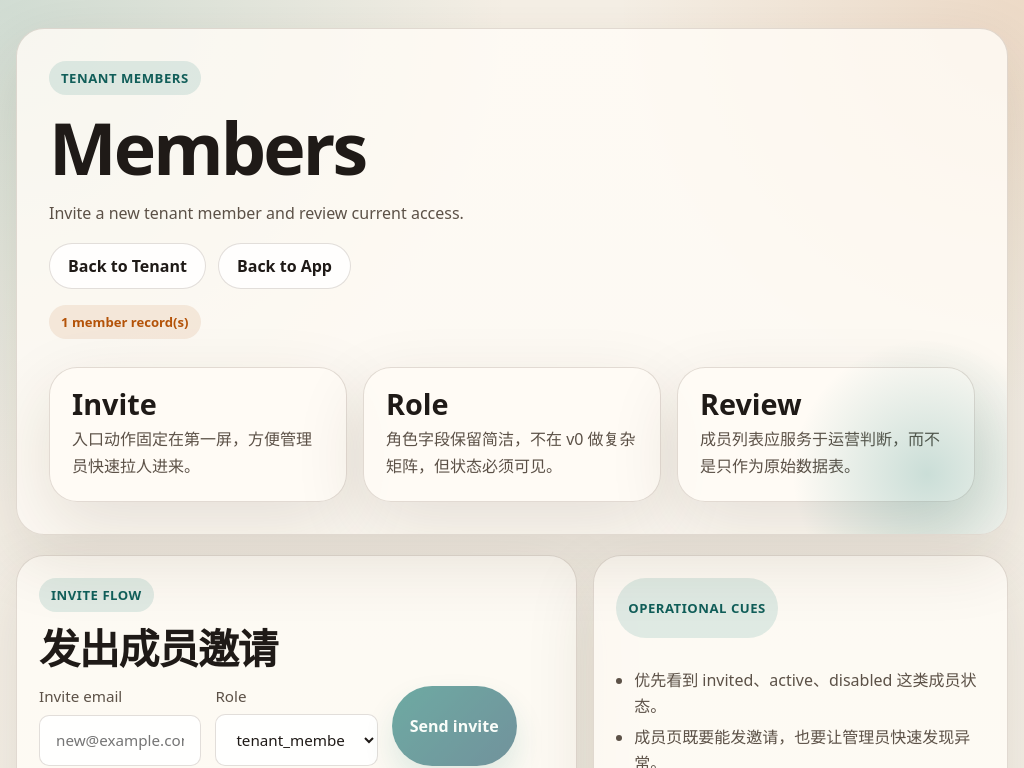
Test: submits an invitation and appends the invited member to the list
In the field labelled "Invite email": coordinates (120, 740) [39,715,201,766], type "  new@example.com  "
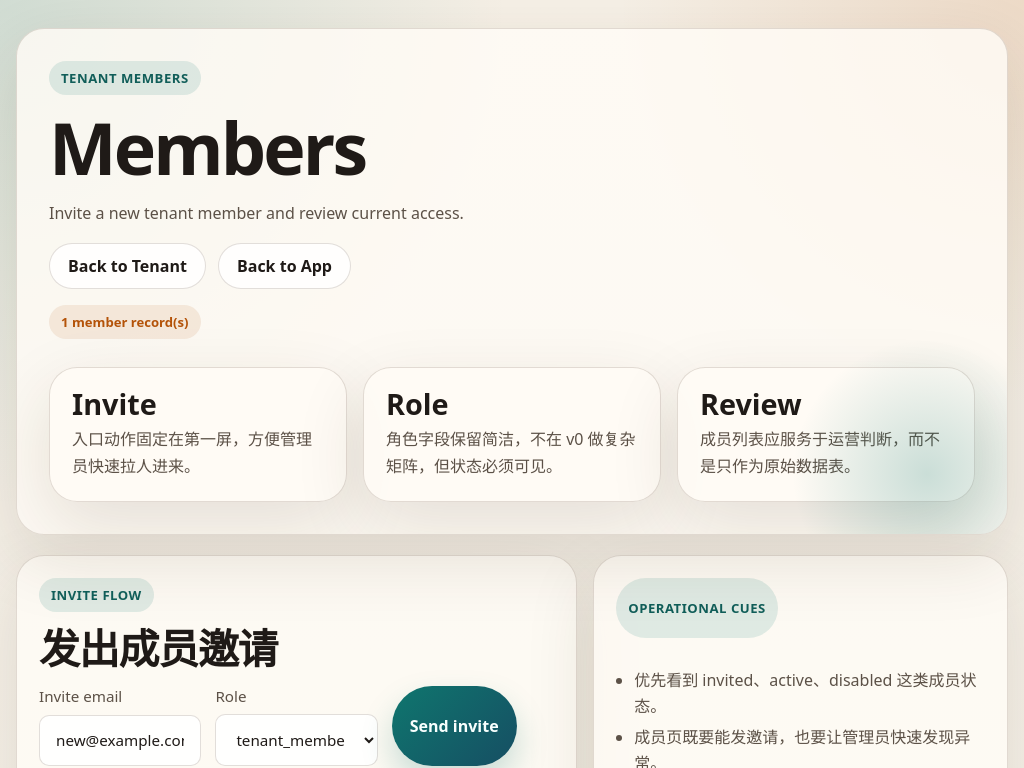
Select "tenant_admin" in the dropdown labelled "Role": coordinates (297, 740) [215,714,378,766]
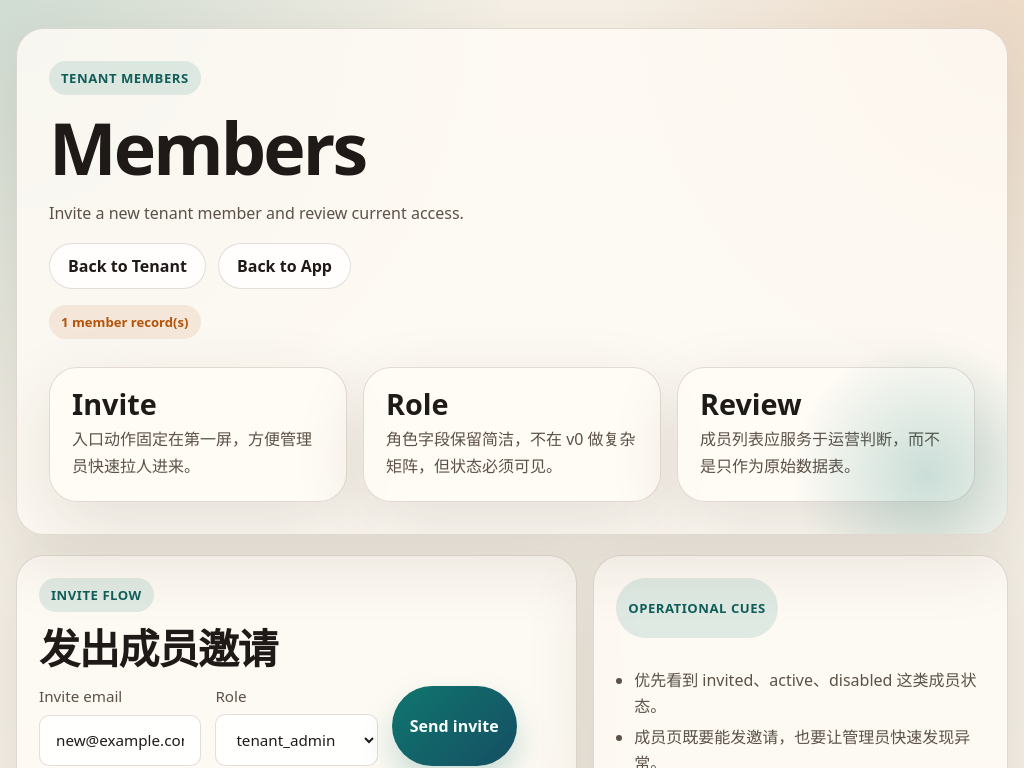
Expected: the button "Send invite" is enabled, [392,686,517,766]
Submit the form "Send invite", box [39,686,554,766]
(page scrolled)
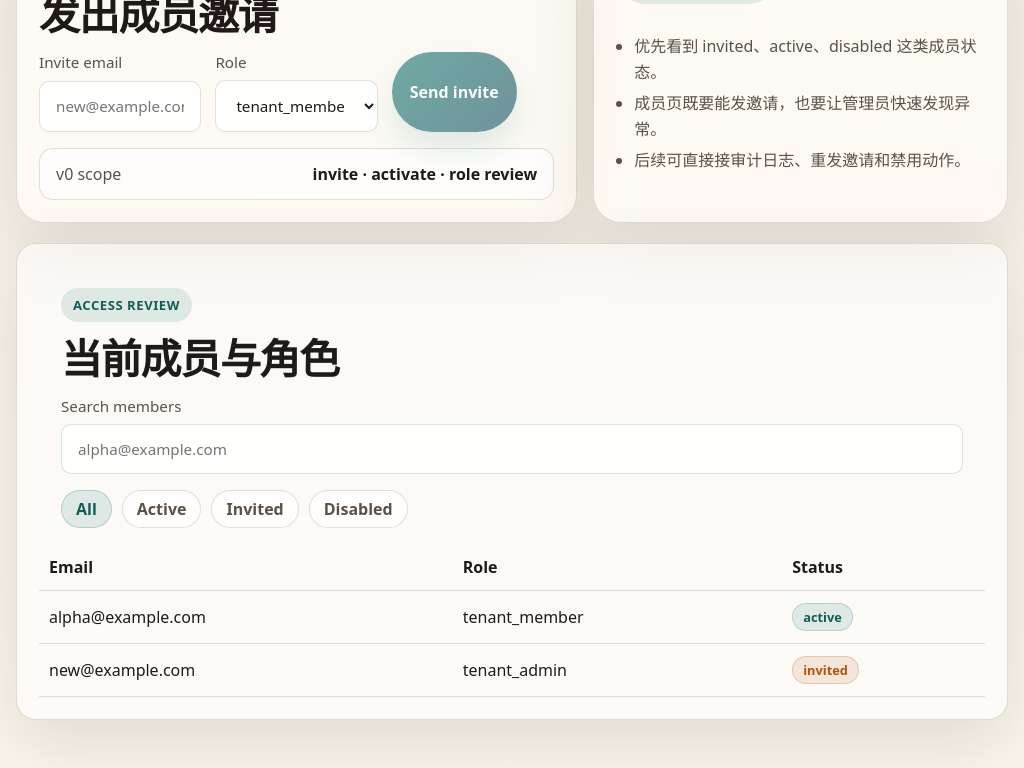
Expected: the button named "Sending invite..." is disabled, [392,52,517,132]
Expected: the text "new@example.com" is shown, [39,643,453,696]
Expected: the text "invited" is shown, [792,656,859,684]
